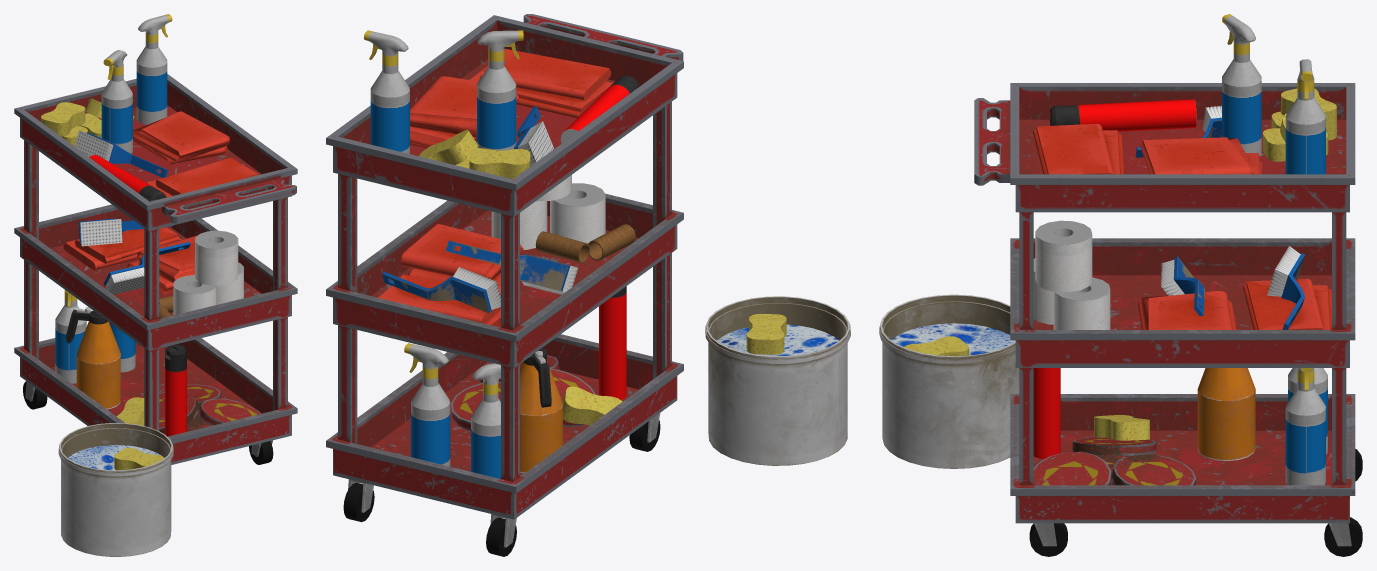
Rendered from CR_CleaniingTrolly.fbx.
3 renders of one model, left to right at view 1: azimuth 30°, elevation 25°; view 2: azimuth 150°, elevation 25°; view 3: azimuth 270°, elevation 25°, orthographic. The views are drawn at different scales.
Visible parts, largest first — view 1: CleaningTroly, CleaningPropA2, CleaningPropA1, CleaningPropB1, CleaningPropB3; view 2: CleaningTroly, CleaningPropA2, CleaningPropA1, CleaningPropB3, CleaningPropB1; view 3: CleaningTroly, CleaningPropA2, CleaningPropA1, CleaningPropB1, CleaningPropB3.
Boxes of the visible parts, x1,y1,x2,y2 form: CleaningTroly: [14, 74, 297, 464]; CleaningPropA2: [58, 50, 197, 556]; CleaningPropA1: [41, 14, 258, 425]; CleaningPropB1: [65, 307, 260, 434]; CleaningPropB3: [159, 230, 243, 318]; CleaningTroly: [326, 14, 683, 556]; CleaningPropA2: [378, 30, 850, 466]; CleaningPropA1: [364, 30, 638, 478]; CleaningPropB3: [491, 175, 635, 263]; CleaningPropB1: [451, 348, 595, 473]; CleaningTroly: [974, 83, 1362, 556]; CleaningPropA2: [879, 14, 1336, 485]; CleaningPropA1: [1033, 59, 1336, 454]; CleaningPropB1: [1033, 368, 1255, 485]; CleaningPropB3: [1033, 220, 1110, 329].
Bounding box in the file's own units: 79.41 × 112 × 101.
